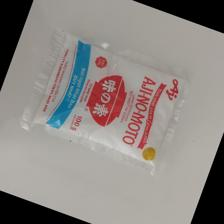Ajinomoto: (32, 33, 190, 169)
